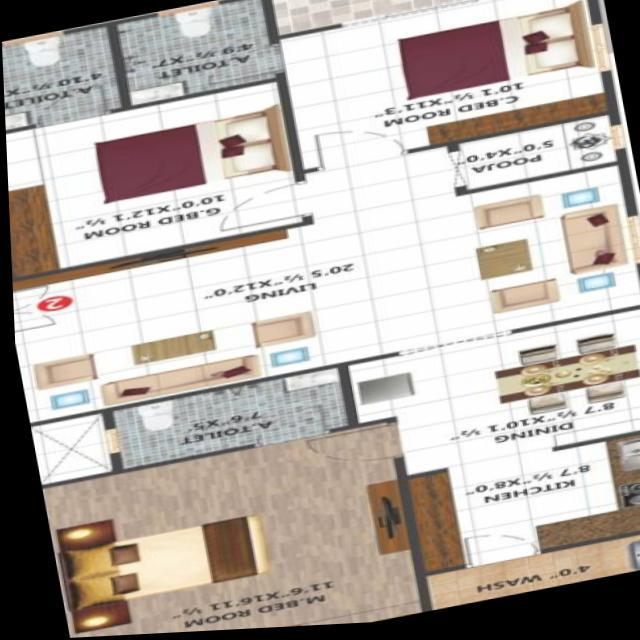Balcony-Sitout: (282, 0, 485, 36)
Bedroom: (283, 0, 599, 171)
Bedroom with Toilet: (38, 372, 420, 638), (2, 31, 306, 277)
Dining: (463, 331, 640, 440)
Enterance-Foyer: (10, 275, 105, 331)
Kitchen: (414, 443, 640, 574)
Living: (10, 177, 631, 420)
Pooja: (461, 125, 608, 194)
Toilet: (112, 375, 340, 468), (114, 1, 273, 108), (2, 29, 123, 131)
Utility: (423, 542, 640, 614)
